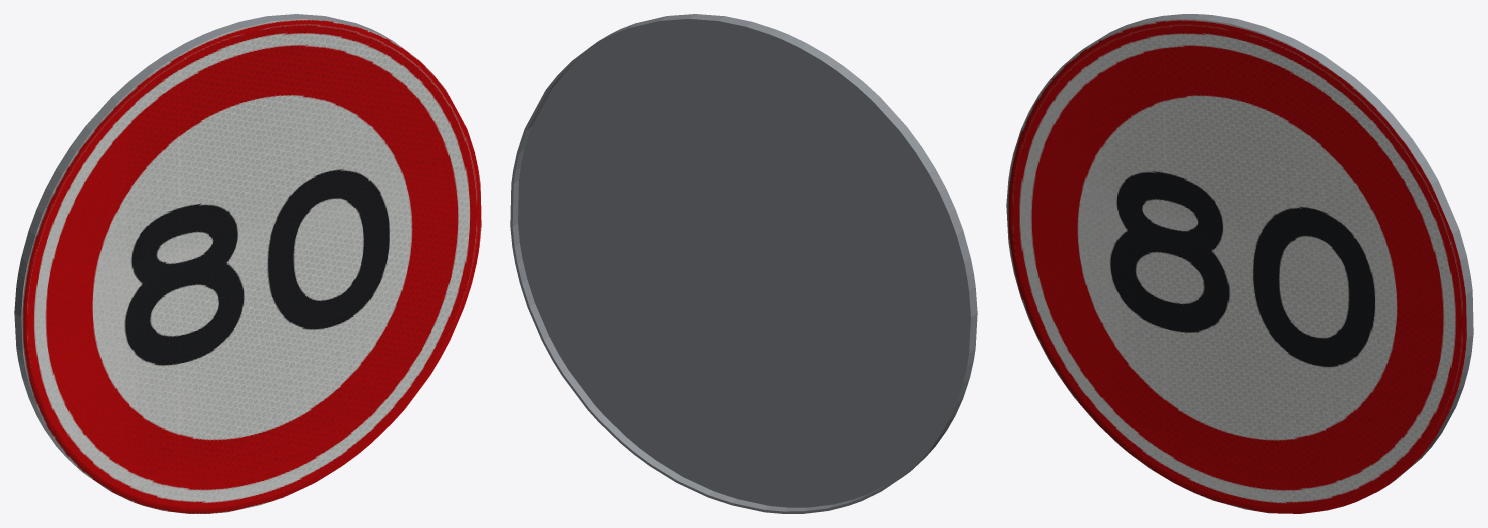
3 renders of one model, left to right at view 1: azimuth 30°, elevation 25°; view 2: azimuth 150°, elevation 25°; view 3: azimuth 330°, elevation 25°, orthographic.
Visible parts, largest first — view 1: cat_ced2d7fc7d105433; view 2: cat_ced2d7fc7d105433; view 3: cat_ced2d7fc7d105433.
Boxes of the visible parts, x1,y1,x2,y2 form: cat_ced2d7fc7d105433: [14, 14, 481, 513]; cat_ced2d7fc7d105433: [510, 14, 977, 513]; cat_ced2d7fc7d105433: [1006, 14, 1473, 513].
Bounding box in the file's own units: 0.6 × 0.015 × 0.6.
2 materials, 1 textured.
